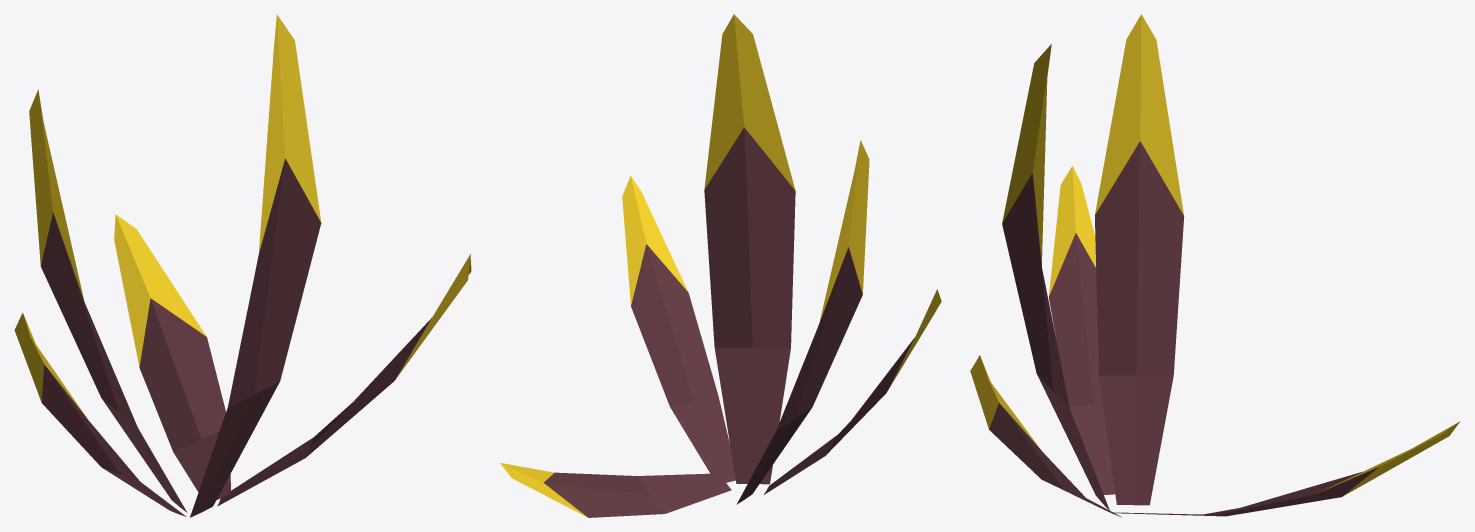
Rendered from scifi-scifi-plant-grass-medium.glb.
3 renders of one model, left to right at view 1: azimuth 30°, elevation 25°; view 2: azimuth 150°, elevation 25°; view 3: azimuth 270°, elevation 25°, orthographic. The views are drawn at different scales.
Visible parts, largest first — view 1: scifi-plant-grass-medium; view 2: scifi-plant-grass-medium; view 3: scifi-plant-grass-medium.
Part boxes in pixels (x1,y1,x2,y2): scifi-plant-grass-medium: (14,14,471,517); scifi-plant-grass-medium: (500,14,941,517); scifi-plant-grass-medium: (970,14,1460,517).
Size of the model in its own units: 0.7206 by 0.8616 by 0.786.
